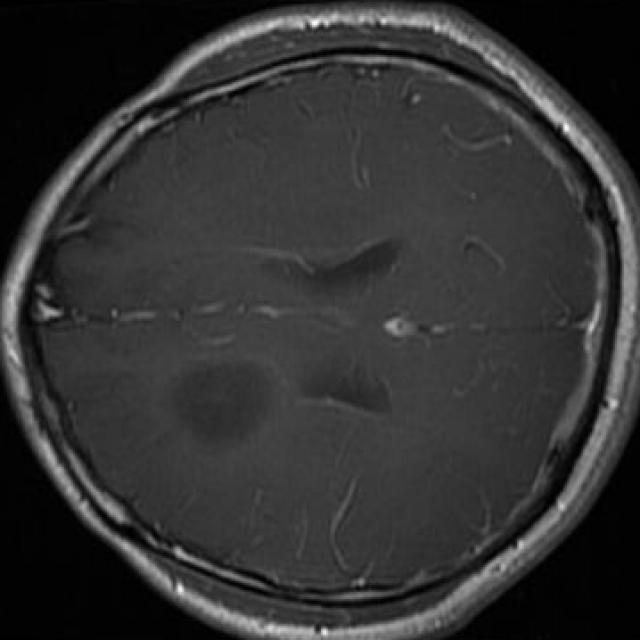glioma: (175, 362, 278, 439)
